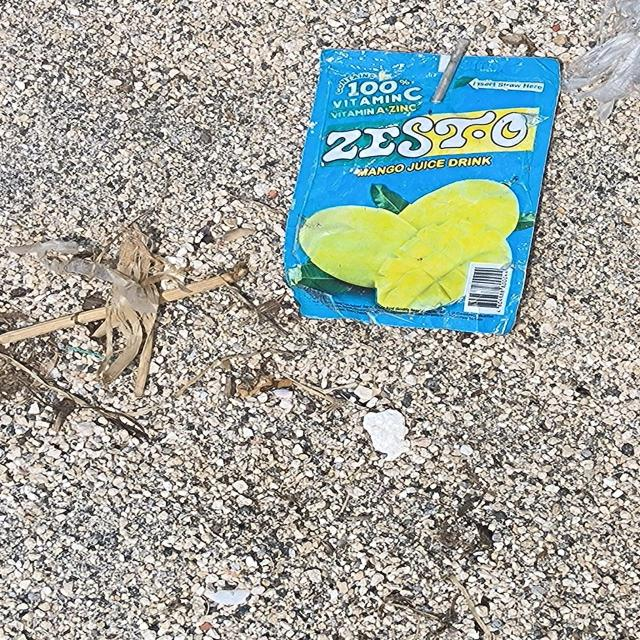plastic_waste: (280, 46, 566, 333)
